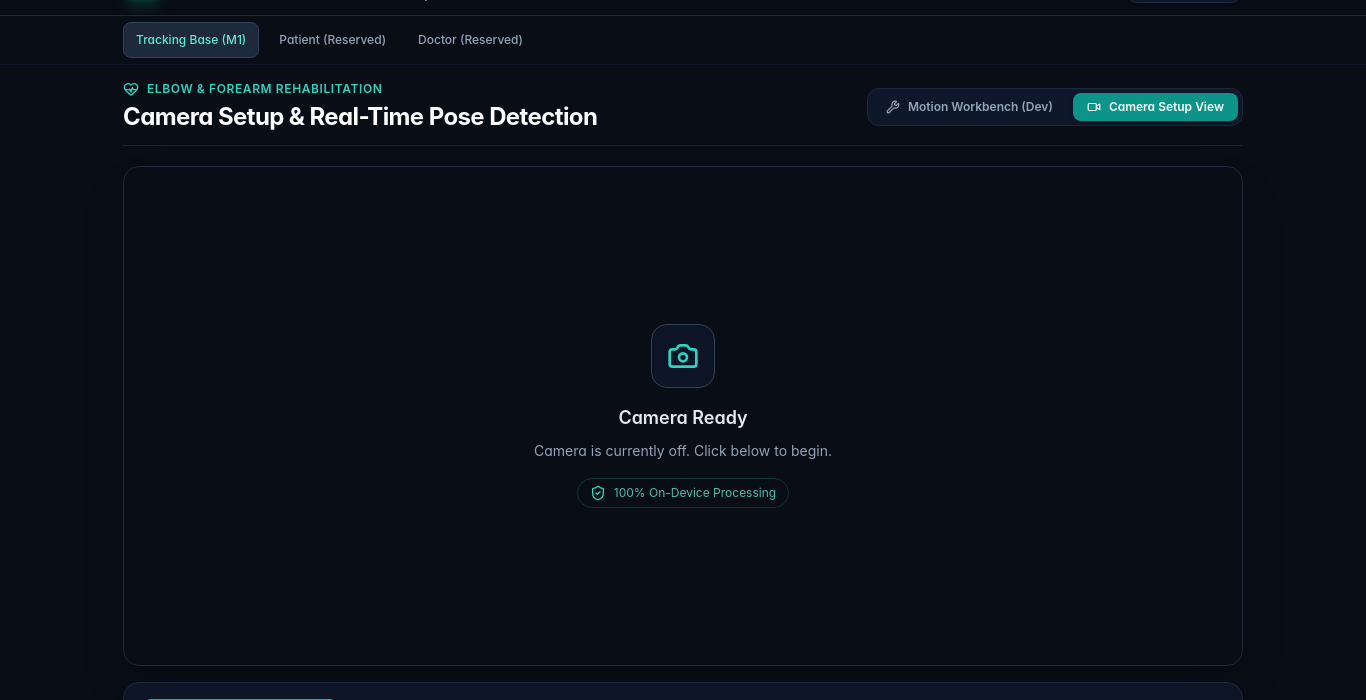
Test: App Shell Route Slots & Boundaries › navigates cleanly to reserved Patient and Doctor route slots and 404 fallback
The width and height of the screenshot is (1366, 700).
// Navigate to Patient Reserved Slot
What coordinates should you click on to do the following:
click the link "Patient (Reserved)"
I would click on:
 (333, 40)
Its box is [279,32,386,47].
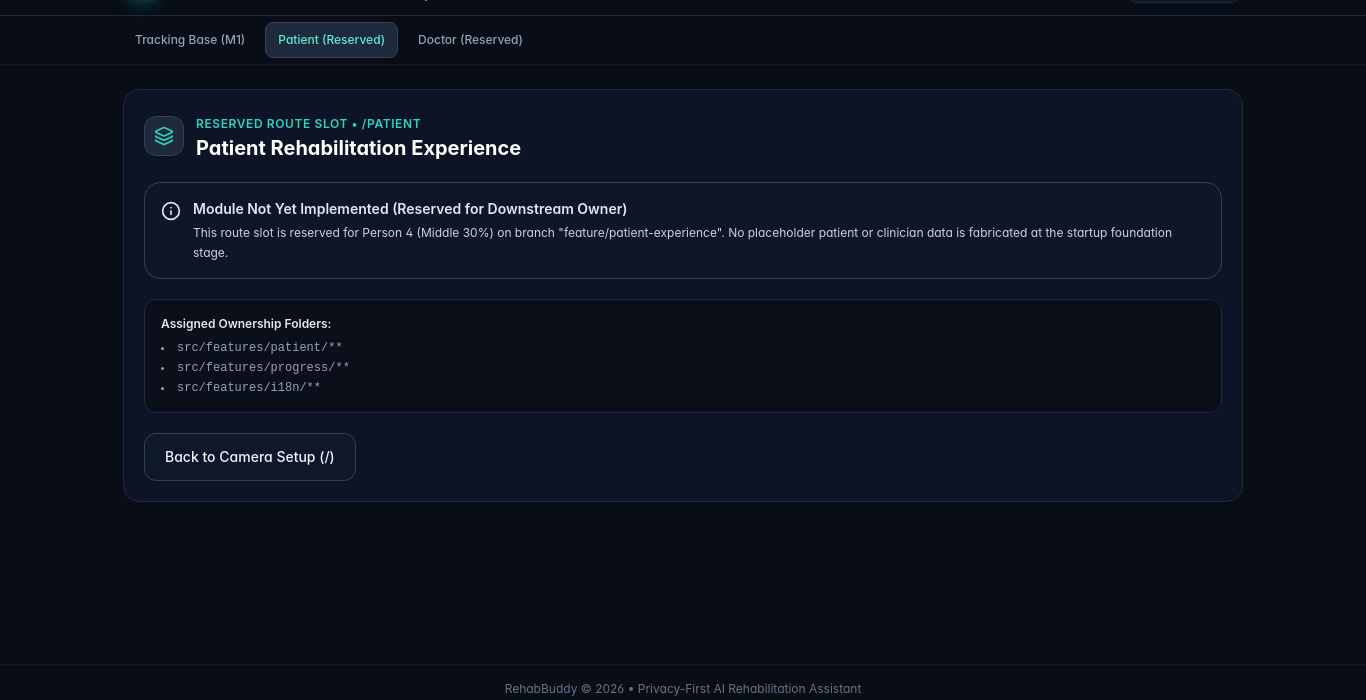
Expected: the heading "Patient Rehabilitation Experience" is shown, [196,134,521,162]
Expected: the text "Person 4 (Middle 30%)" is shown, [193,225,1172,260]
// Navigate to Doctor Reserved Slot
What coordinates should you click on to do the following:
click the link "Doctor (Reserved)"
I would click on:
 (471, 40)
Its box is [418,32,523,47].
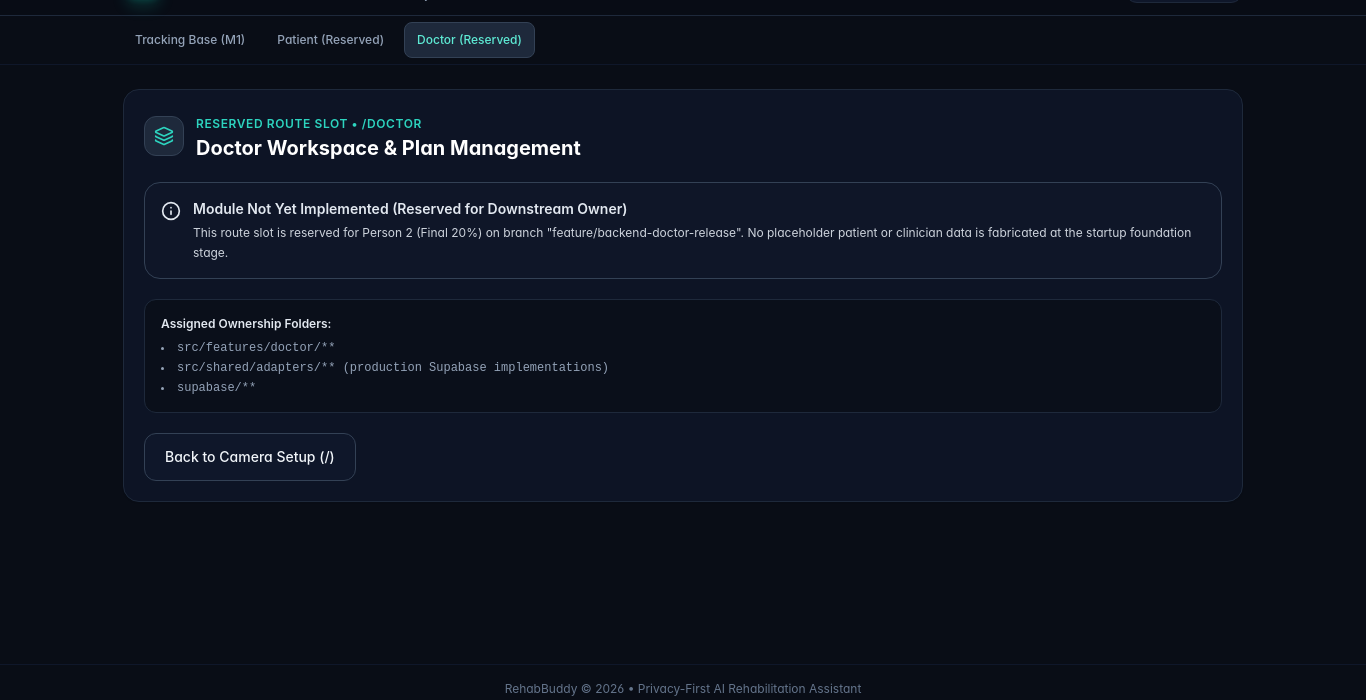
Expected: the heading "Doctor Workspace & Plan Management" is shown, [196,134,581,162]
Expected: the text "Person 2 (Final 20%)" is shown, [193,225,1191,260]
// Return back to root camera tracking slot
What coordinates should you click on to do the following:
click the button "Back to Camera Setup (/)"
I would click on:
 (250, 457)
Its box is [144,433,356,481].
(page scrolled)
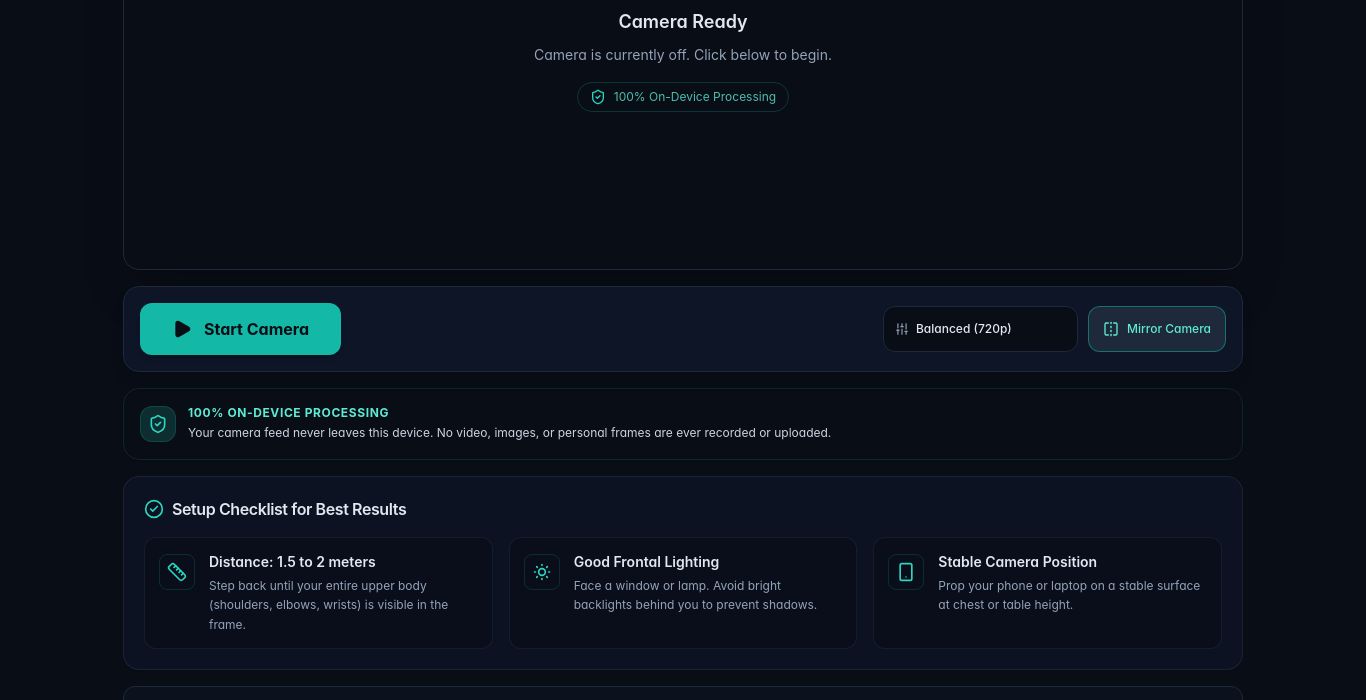
Expected: the button "Start Camera" is shown, [140,303,341,355]
